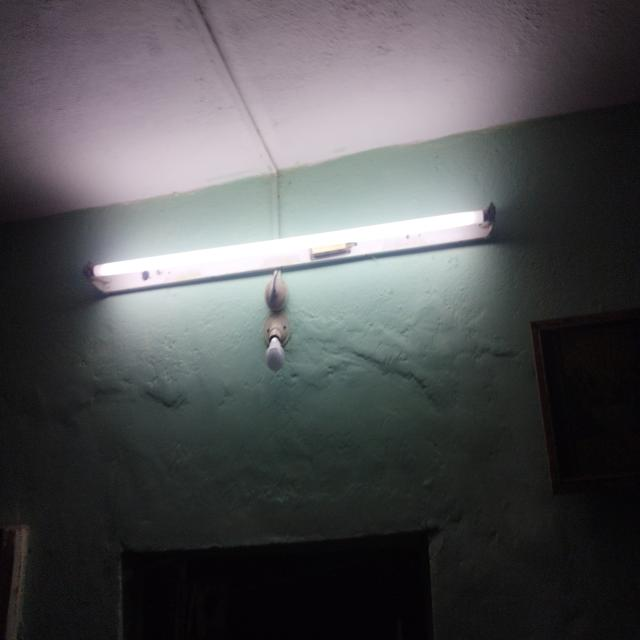tubelight_on: (87, 197, 500, 303)
